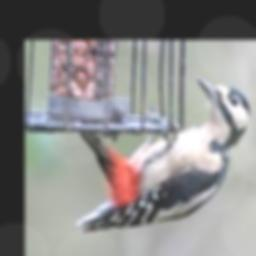Woodpecker: (76, 78, 250, 232)
